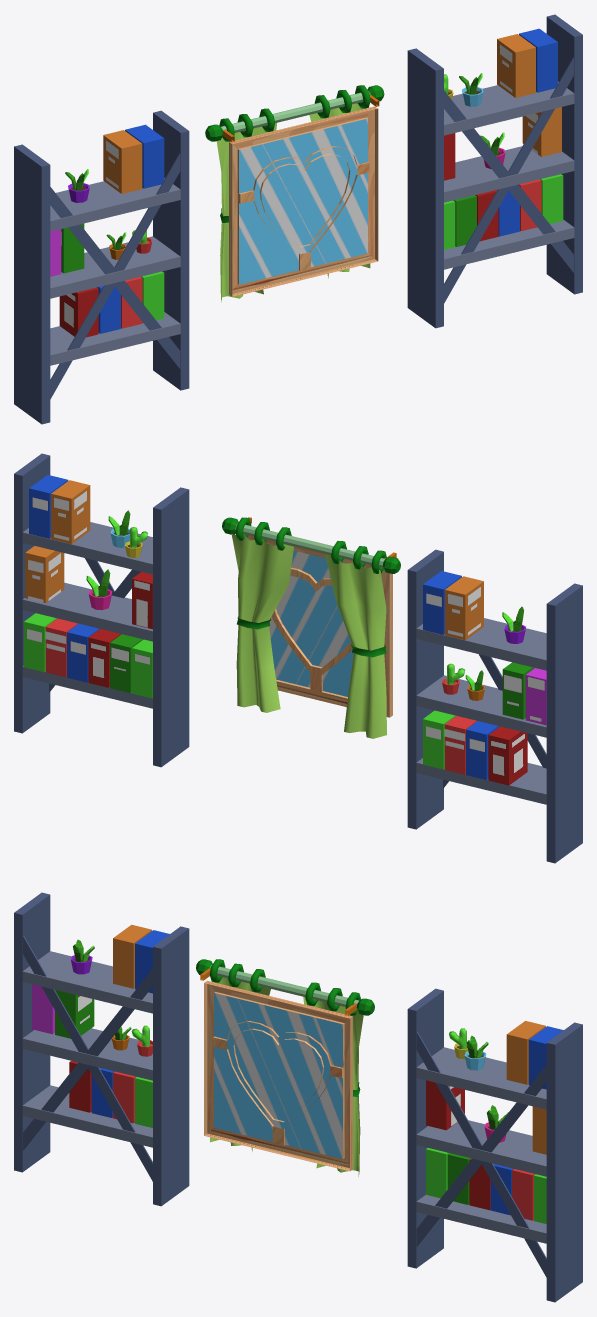
The model's file is Back3.fbx.
The picture shows the model from 3 angles, top to bottom: view 1: azimuth 30°, elevation 25°; view 2: azimuth 150°, elevation 25°; view 3: azimuth 330°, elevation 25°; orthographic projection.
Visible parts, largest first — view 1: Back3; view 2: Back3; view 3: Back3.
Part boxes in pixels (box(x1,y1,x2,y2)): Back3: box(14, 14, 582, 424); Back3: box(14, 453, 582, 863); Back3: box(14, 892, 582, 1302).
Size of the model in its own units: 7448 by 711 by 3388.
